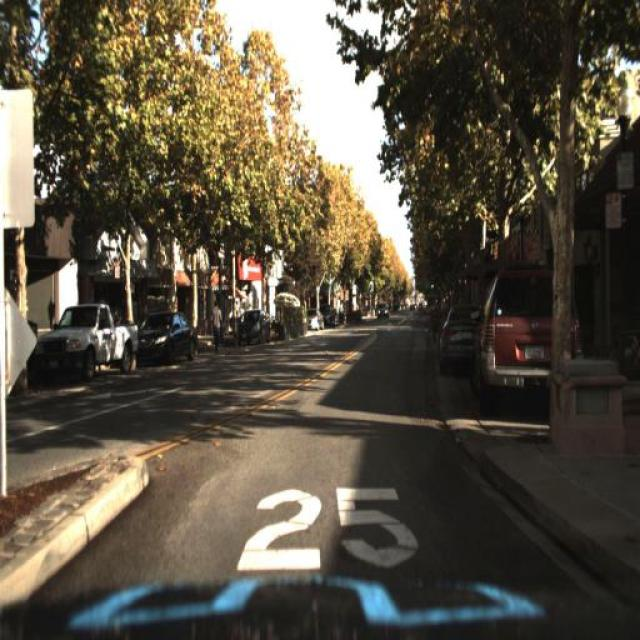car: (476, 260, 592, 416), (31, 302, 138, 380), (130, 310, 199, 366), (436, 298, 482, 378), (233, 302, 272, 342), (300, 307, 325, 332), (374, 293, 391, 323)
trafficLight: (205, 297, 223, 354)
